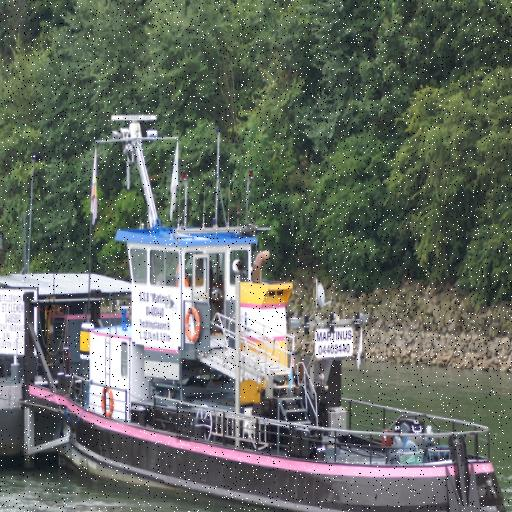tugboat: (22, 103, 512, 512)
